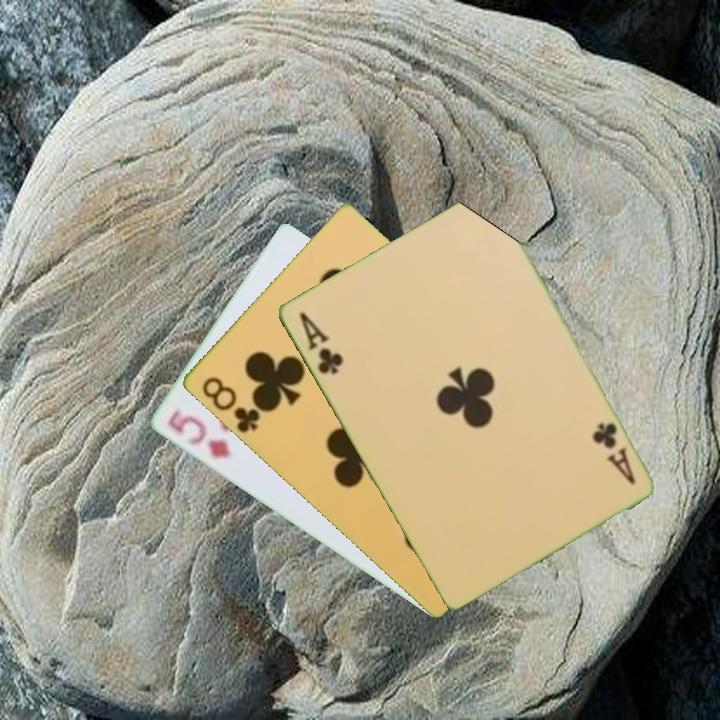5d: (163, 405, 234, 461)
8c: (197, 373, 266, 436)
Ac: (295, 308, 346, 377), (588, 418, 638, 488)
